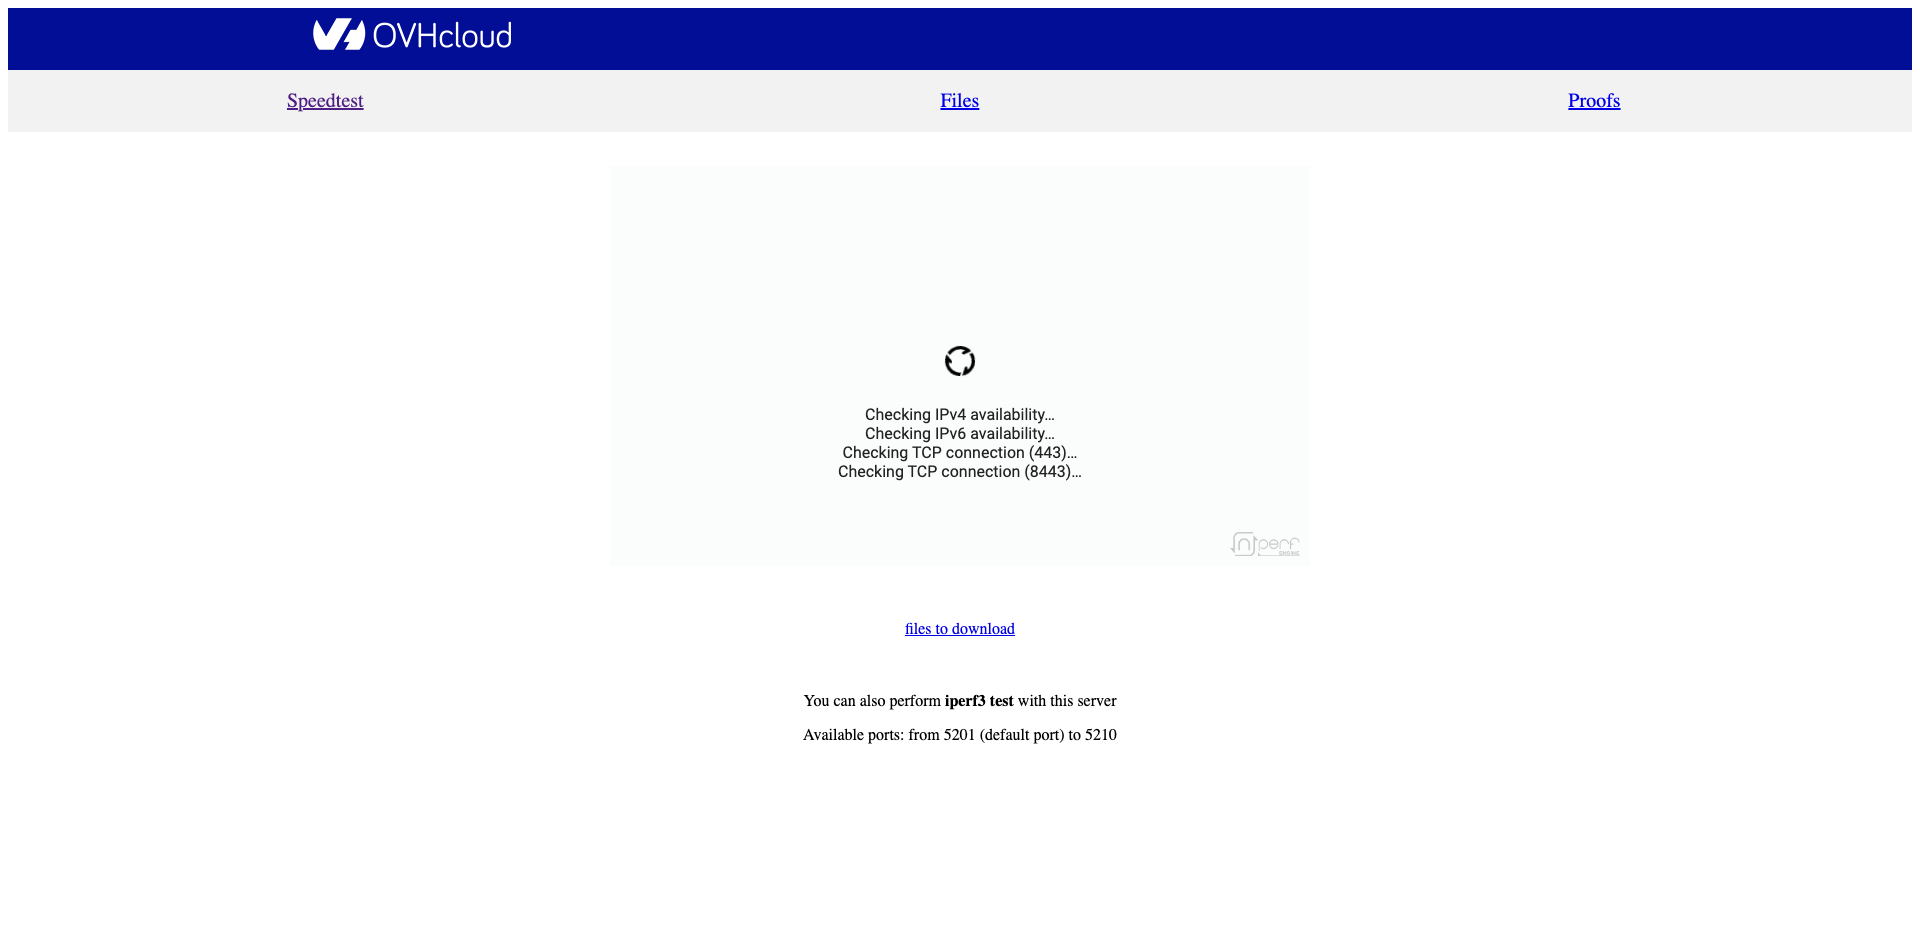link: (9, 40, 511, 64), (905, 620, 1015, 638), (287, 89, 364, 111), (1569, 89, 1620, 111), (940, 89, 980, 111)
